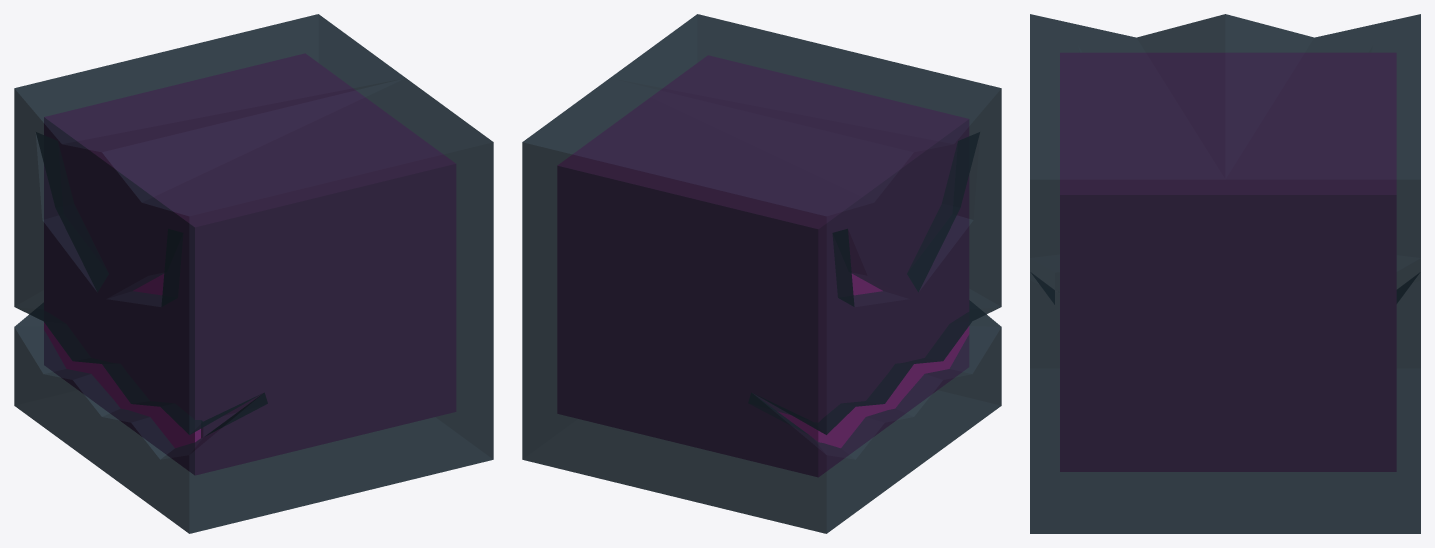
Rendered from Dark Ghost.fbx.
The picture shows the model from 3 angles, left to right: view 1: azimuth 30°, elevation 25°; view 2: azimuth 150°, elevation 25°; view 3: azimuth 270°, elevation 25°; orthographic projection. The views are drawn at different scales.
Visible parts, largest first — view 1: Purple Ghost; view 2: Purple Ghost; view 3: Purple Ghost.
Boxes of the visible parts, x1,y1,x2,y2 form: Purple Ghost: (14, 14, 493, 533); Purple Ghost: (522, 14, 1001, 533); Purple Ghost: (1030, 14, 1420, 533).
Size of the model in its own units: 692 by 690 by 690.
